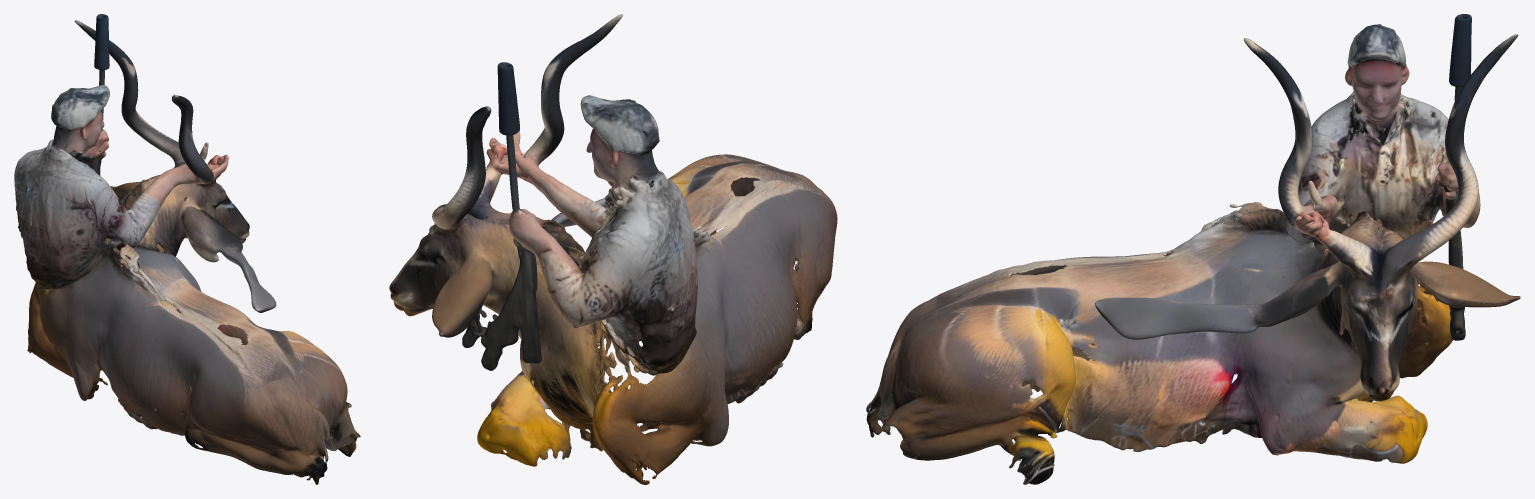
Rendered from model-compressed-1773120962898-vsj3fv3v9e.glb.
3 renders of one model, left to right at view 1: azimuth 30°, elevation 25°; view 2: azimuth 150°, elevation 25°; view 3: azimuth 270°, elevation 25°, orthographic. The views are drawn at different scales.
Parts seen in each view (by area): view 1: tripo_node_2a95f5b1-274d-4e75-b800-2a2cedff256d; view 2: tripo_node_2a95f5b1-274d-4e75-b800-2a2cedff256d; view 3: tripo_node_2a95f5b1-274d-4e75-b800-2a2cedff256d.
Part boxes in pixels (x1,y1,x2,y2): tripo_node_2a95f5b1-274d-4e75-b800-2a2cedff256d: (14,14,360,484); tripo_node_2a95f5b1-274d-4e75-b800-2a2cedff256d: (389,14,837,484); tripo_node_2a95f5b1-274d-4e75-b800-2a2cedff256d: (866,14,1520,484).
Size of the model in its own units: 0.5277 by 0.7177 by 1.
1 material, 1 textured.
